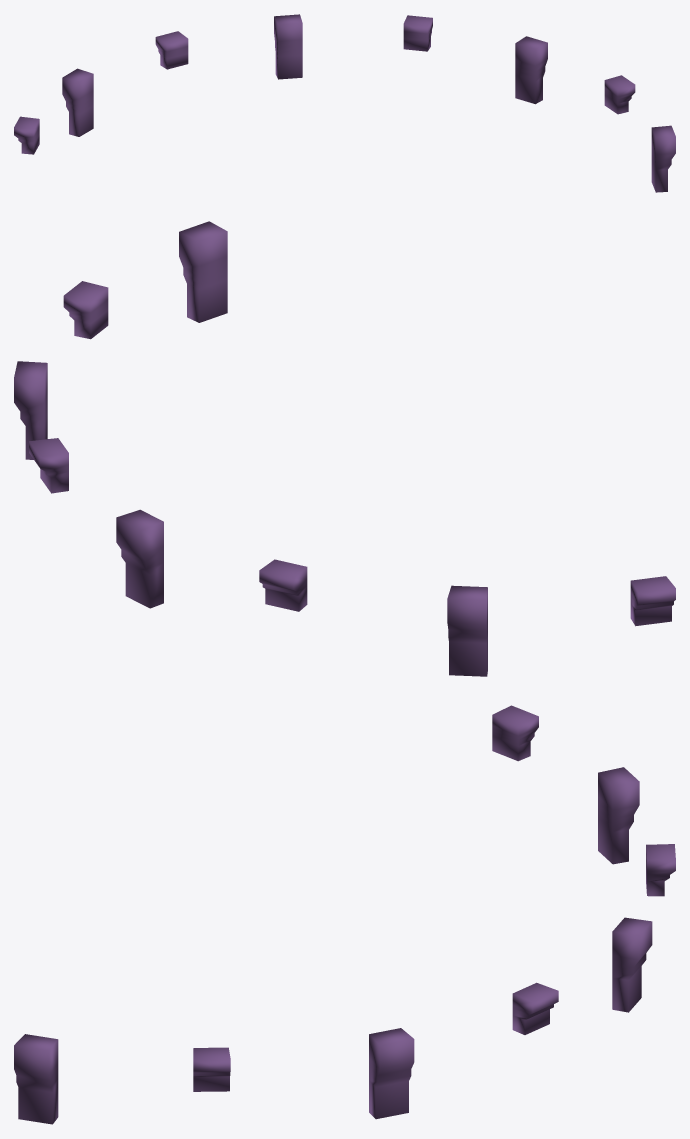
The model's file is Tower_Orn_04.fbx.
3 renders of one model, top to bottom at view 1: azimuth 30°, elevation 25°; view 2: azimuth 150°, elevation 25°; view 3: azimuth 270°, elevation 25°, orthographic. The views are drawn at different scales.
Parts seen in each view (by area): view 1: Tower_Orn_04; view 2: Tower_Orn_04; view 3: Tower_Orn_04.
Part boxes in pixels (x1,y1,x2,y2): Tower_Orn_04: [14, 14, 675, 192]; Tower_Orn_04: [14, 221, 675, 676]; Tower_Orn_04: [14, 705, 675, 1124].
Bounding box in the file's own units: 1459 × 151 × 1151.
